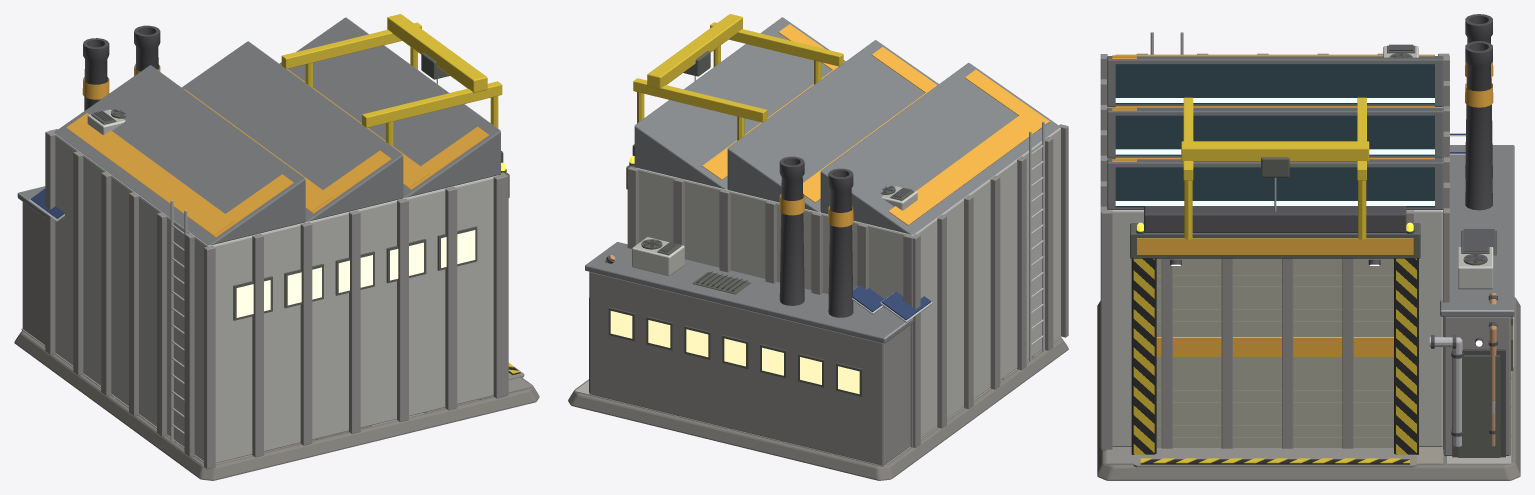
Rendered from factory_orange.glb.
The picture shows the model from 3 angles, left to right: view 1: azimuth 30°, elevation 25°; view 2: azimuth 150°, elevation 25°; view 3: azimuth 270°, elevation 25°; orthographic projection. The views are drawn at different scales.
Parts seen in each view (by area): view 1: Body; view 2: Body; view 3: Body.
Boxes of the visible parts, <box> form: Body: <box>14,14,539,480</box>; Body: <box>568,14,1068,480</box>; Body: <box>1097,14,1520,480</box>.
Size of the model in its own units: 5.99 by 5.04 by 5.98.
Materials: 1 (1 with a texture image).
